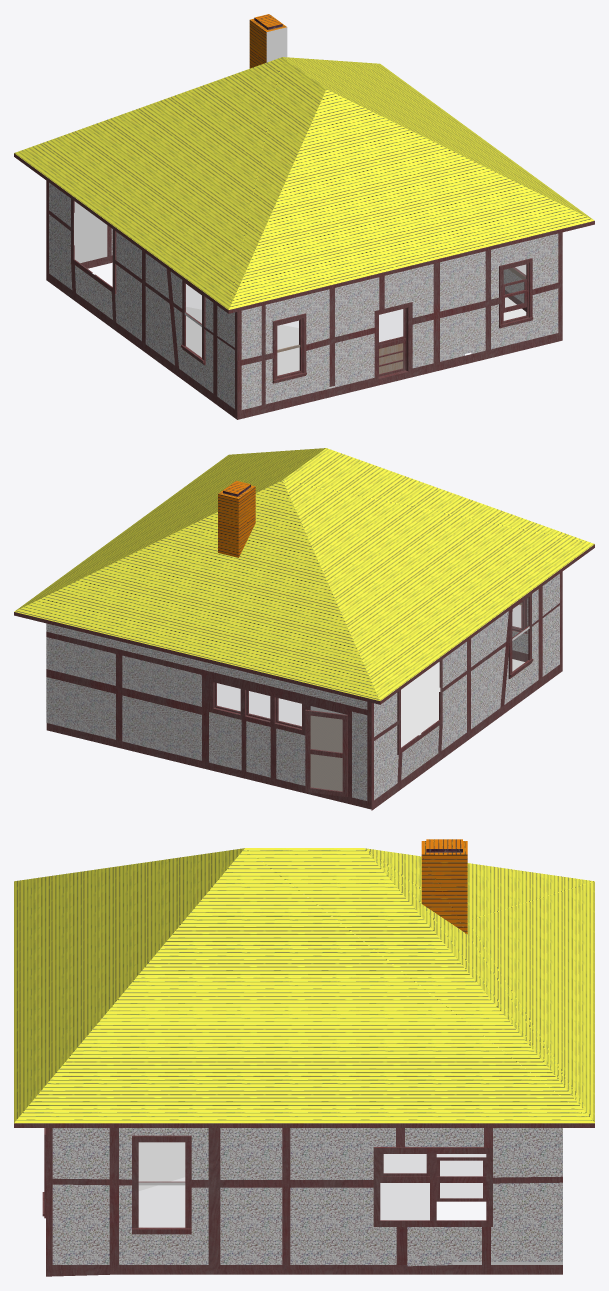
File: Abuela casa final.fbx
3 renders of one model, top to bottom at view 1: azimuth 30°, elevation 25°; view 2: azimuth 150°, elevation 25°; view 3: azimuth 270°, elevation 25°, orthographic. The views are drawn at different scales.
Parts seen in each view (by area): view 1: Model; view 2: Model; view 3: Model.
Boxes of the visible parts, x1,y1,x2,y2 form: Model: (14,14,594,419); Model: (14,448,594,810); Model: (14,839,594,1276).
Size of the model in its own units: 346 by 224 by 352.
